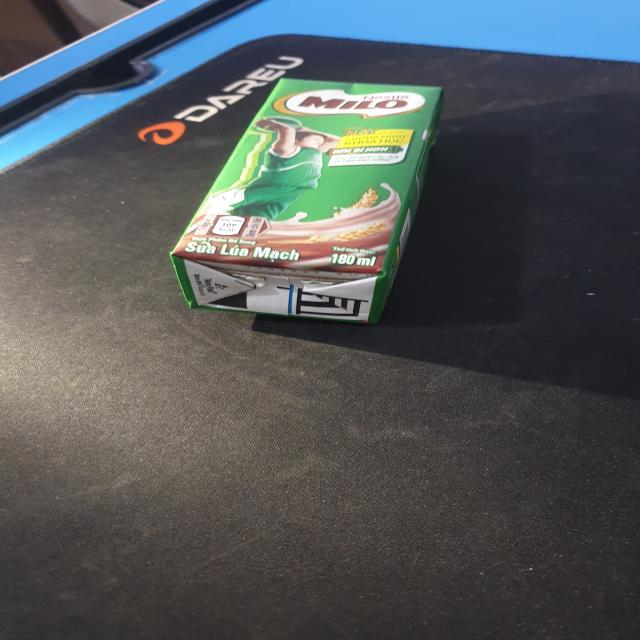Milo: (176, 82, 450, 322)
